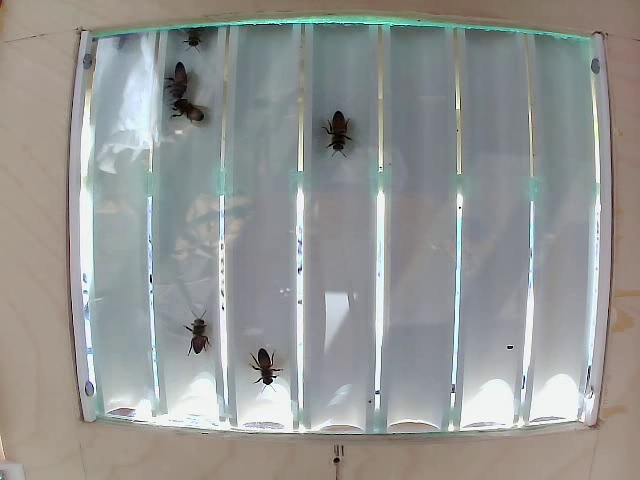bee: (151, 50, 199, 99), (176, 308, 220, 361), (313, 110, 363, 154), (253, 339, 286, 390), (171, 91, 202, 130)
